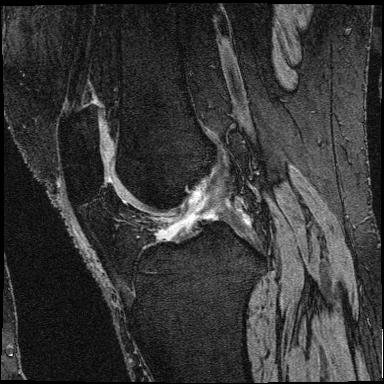SagKneeJointArea: (57, 103, 269, 299)
